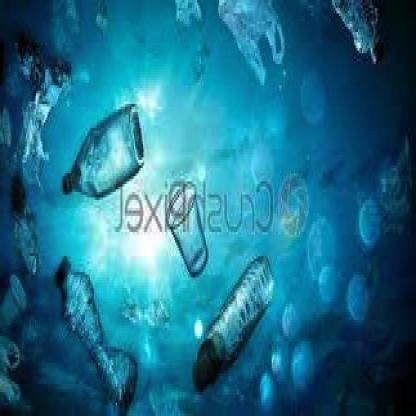pbag: (208, 3, 290, 85), (1, 341, 26, 416)
pbottle: (54, 253, 147, 416), (183, 251, 277, 384), (57, 99, 158, 210), (317, 2, 393, 66)
plastic: (163, 181, 210, 283), (1, 261, 36, 331)
